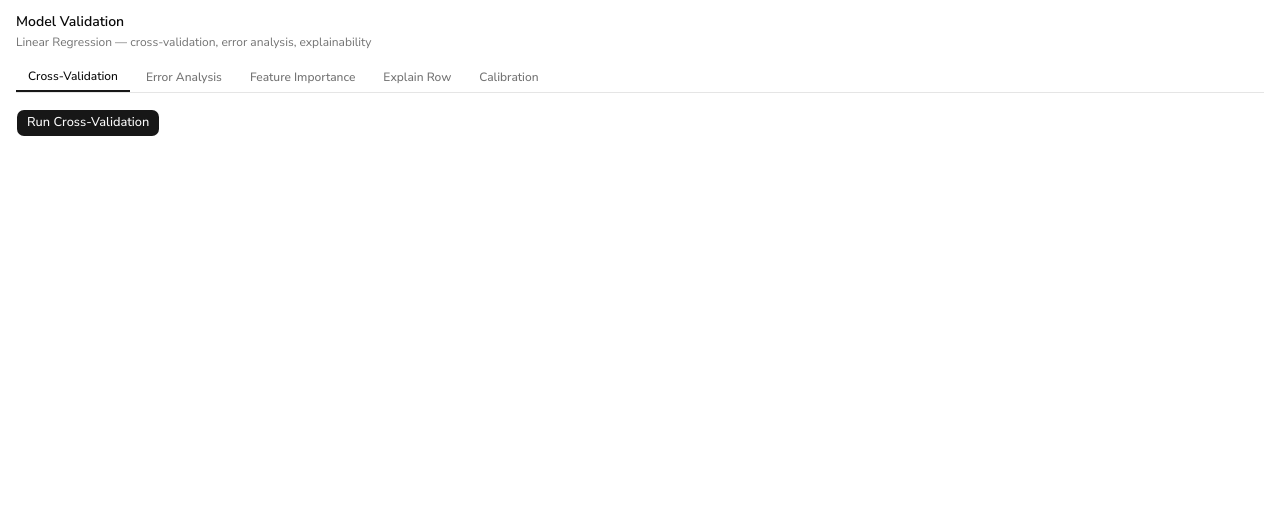
Test: ValidationPanel — confidence badge › shows MEDIUM confidence badge
This screenshot has width=1280, height=512.
Click the tab "Cross-Validation" at (73, 77), box [16,62,130,92]
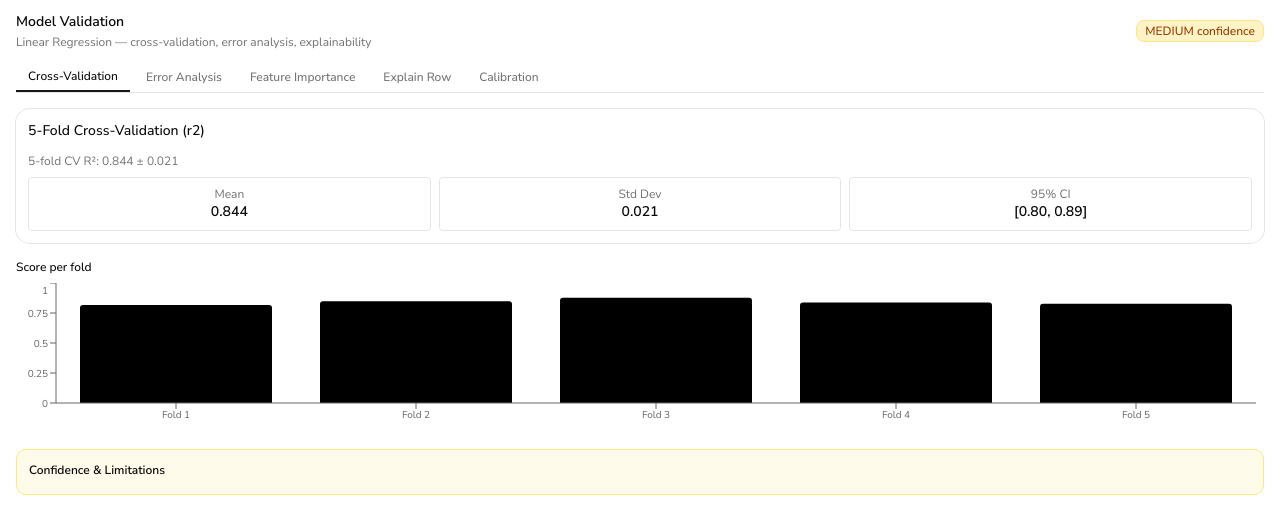
Expected: the text "MEDIUM confidence" is shown, [1136,20,1264,42]
